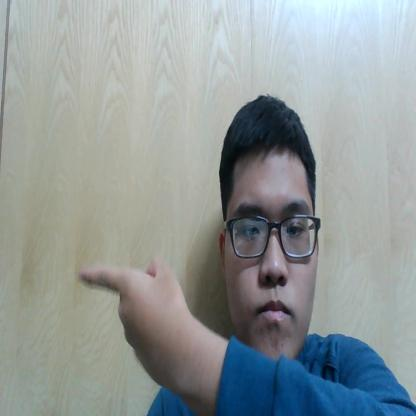right: (65, 241, 207, 400)
